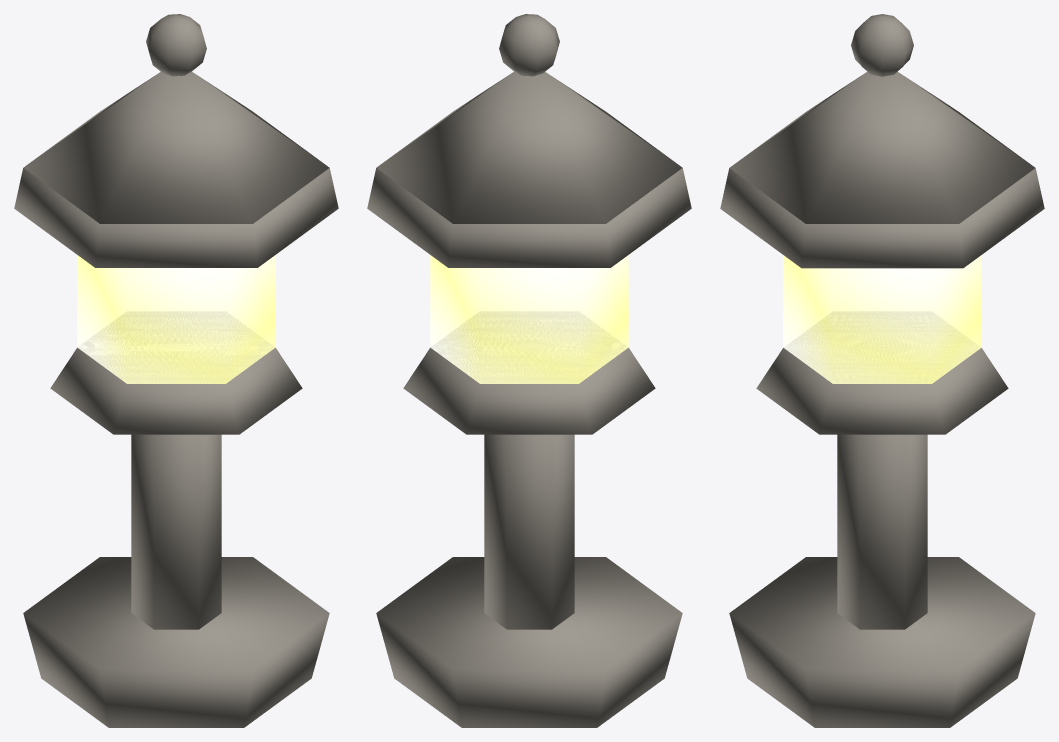
The model's file is xy_item_stonelantern.glb.
3 renders of one model, left to right at view 1: azimuth 30°, elevation 25°; view 2: azimuth 150°, elevation 25°; view 3: azimuth 270°, elevation 25°, orthographic.
Visible parts, largest first — view 1: xy_item_stonelantern; view 2: xy_item_stonelantern; view 3: xy_item_stonelantern.
Boxes of the visible parts, x1=… form: xy_item_stonelantern: x1=14, y1=14, x2=338, y2=727; xy_item_stonelantern: x1=367, y1=14, x2=691, y2=727; xy_item_stonelantern: x1=720, y1=14, x2=1044, y2=727.
Bounding box in the file's own units: 0.6235 × 1.62 × 0.72.
